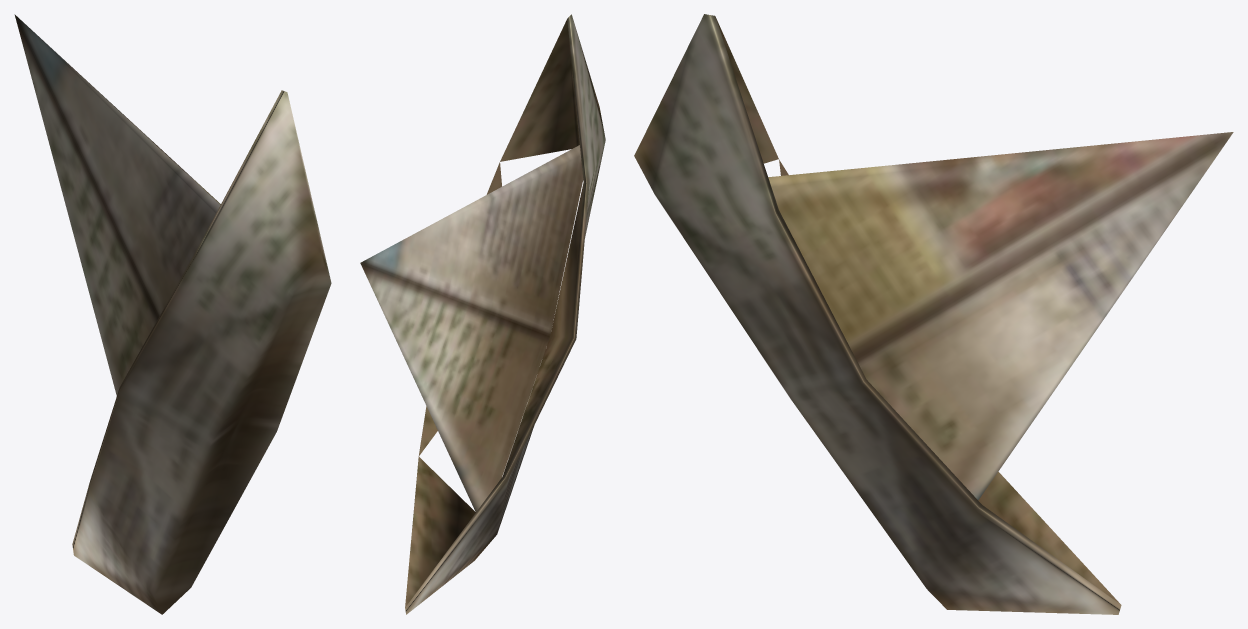
The model's file is paperBoat.glb.
3 views of the same model, side by side, from view 1: azimuth 30°, elevation 25°; view 2: azimuth 150°, elevation 25°; view 3: azimuth 270°, elevation 25° (orthographic). The views are drawn at different scales.
Visible parts, largest first — view 1: paperBoat; view 2: paperBoat; view 3: paperBoat.
Boxes of the visible parts, box(x1,y1,x2,y2) form: paperBoat: box(14, 14, 331, 614); paperBoat: box(360, 14, 605, 614); paperBoat: box(634, 14, 1233, 614).
Bounding box in the file's own units: 0.1116 × 0.3806 × 0.3442.
Materials: 1 (1 with a texture image).
